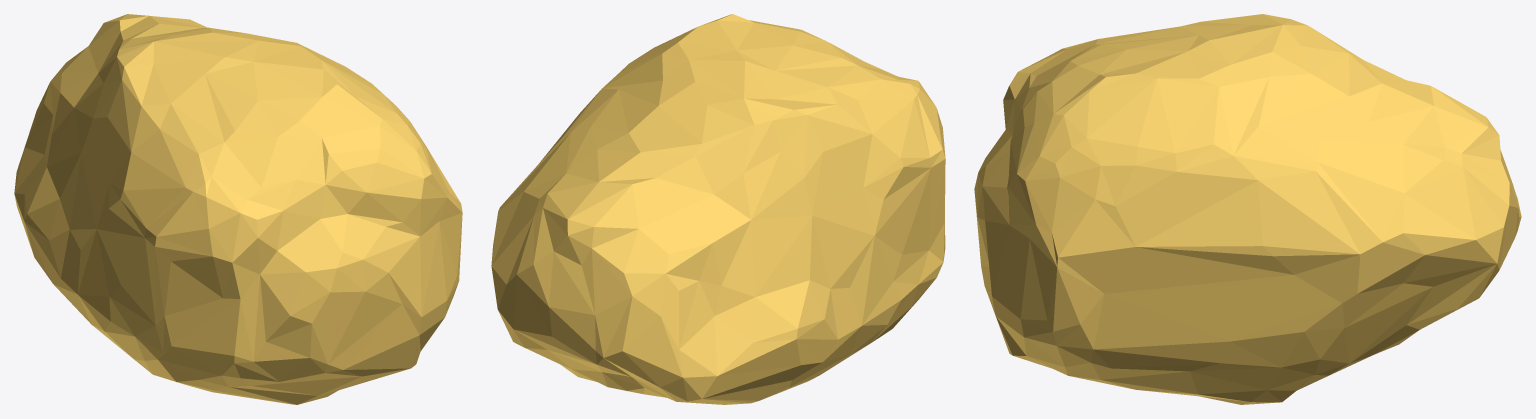
Rendered from Rock 01.FBX.
The picture shows the model from 3 angles, left to right: view 1: azimuth 30°, elevation 25°; view 2: azimuth 150°, elevation 25°; view 3: azimuth 270°, elevation 25°; orthographic projection. The views are drawn at different scales.
Parts seen in each view (by area): view 1: cube; view 2: cube; view 3: cube.
Part boxes in pixels (box(x1,y1,x2,y2)): cube: box(14, 14, 462, 404); cube: box(491, 14, 945, 404); cube: box(974, 14, 1521, 404).
Bounding box in the file's own units: 62.31 × 60.25 × 96.23.
